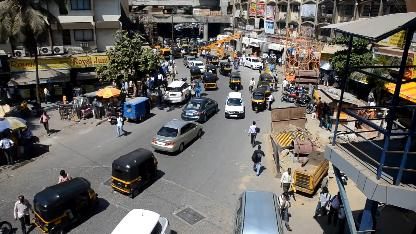auto-rikshaw: (35, 178, 100, 234), (110, 149, 160, 197), (251, 90, 267, 114), (202, 74, 218, 90), (229, 72, 243, 90), (218, 62, 233, 76)
car: (151, 119, 203, 153), (182, 97, 218, 123), (224, 92, 244, 120), (244, 55, 264, 71)
